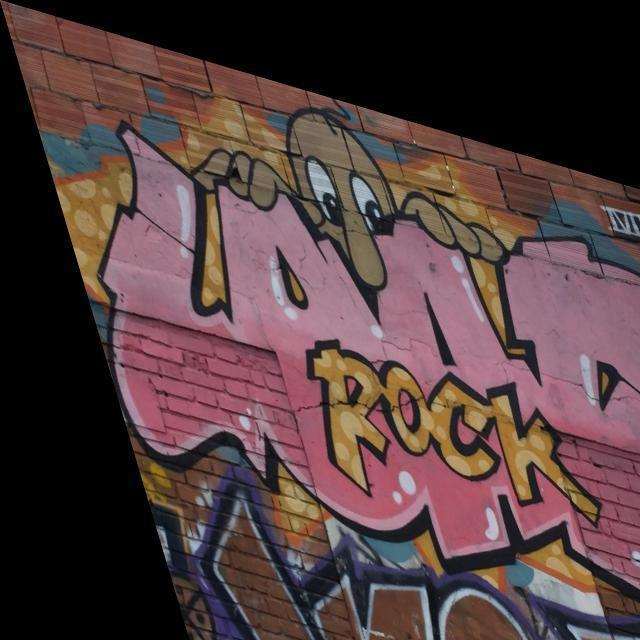nonspitting: (97, 121, 640, 596), (191, 472, 640, 640)
spitting: (196, 109, 511, 288)
